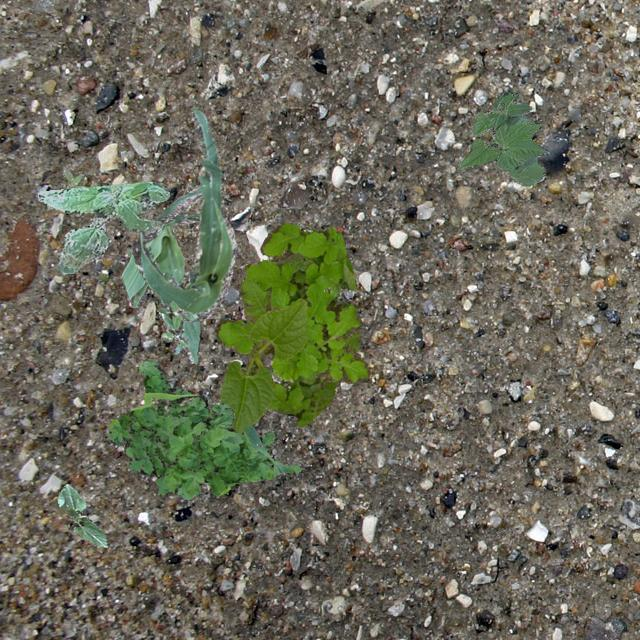crop: (130, 104, 236, 320), (120, 185, 202, 362), (220, 300, 306, 434), (457, 90, 548, 186), (56, 484, 108, 546)
weed: (107, 358, 300, 498), (213, 222, 369, 382), (240, 276, 360, 426), (38, 180, 168, 274), (158, 300, 196, 348), (60, 165, 84, 188)
